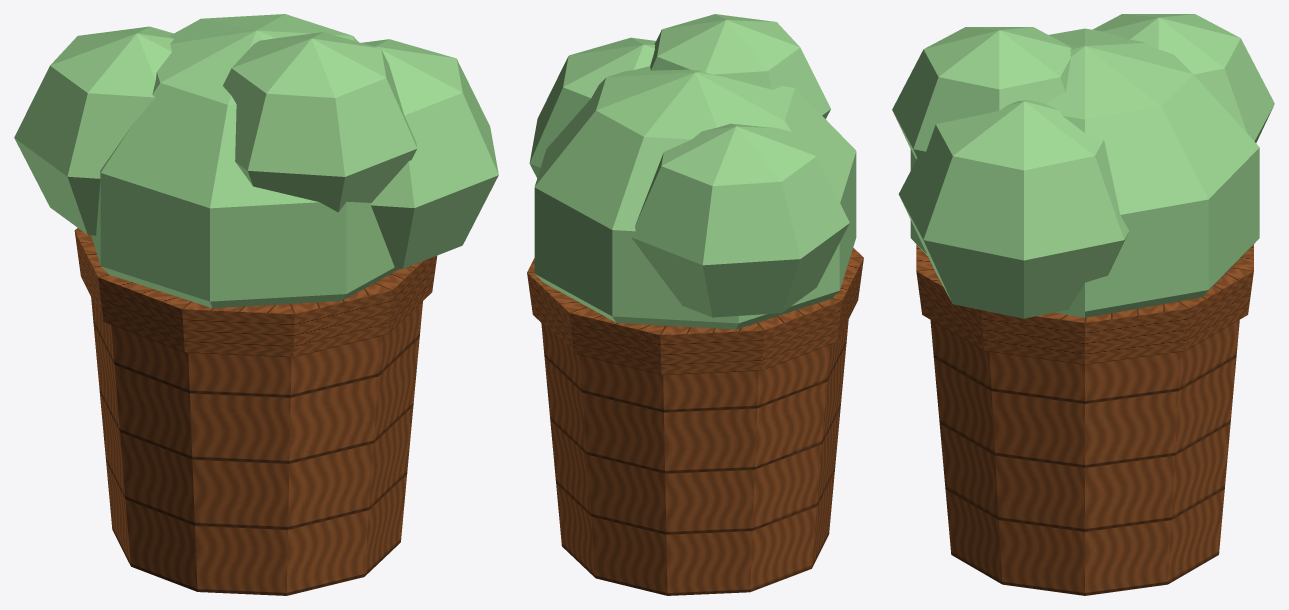
The model's file is allotments-and-community-garden-potato-sack-planter-869213d4__35143.glb.
The picture shows the model from 3 angles, left to right: view 1: azimuth 30°, elevation 25°; view 2: azimuth 150°, elevation 25°; view 3: azimuth 270°, elevation 25°; orthographic projection. The views are drawn at different scales.
Visible parts, largest first — view 1: potato-sack-planter-leaf, potato-sack-planter-timber; view 2: potato-sack-planter-leaf, potato-sack-planter-timber; view 3: potato-sack-planter-leaf, potato-sack-planter-timber.
Part boxes in pixels (x1=…): potato-sack-planter-leaf: x1=14, y1=14, x2=498, y2=308; potato-sack-planter-timber: x1=74, y1=228, x2=437, y2=595; potato-sack-planter-leaf: x1=529, y1=14, x2=856, y2=329; potato-sack-planter-timber: x1=527, y1=247, x2=863, y2=595; potato-sack-planter-leaf: x1=892, y1=14, x2=1274, y2=318; potato-sack-planter-timber: x1=916, y1=244, x2=1253, y2=595.
Size of the model in its own units: 0.6957 by 0.922 by 0.6256.
Materials: 3 (2 with a texture image).
